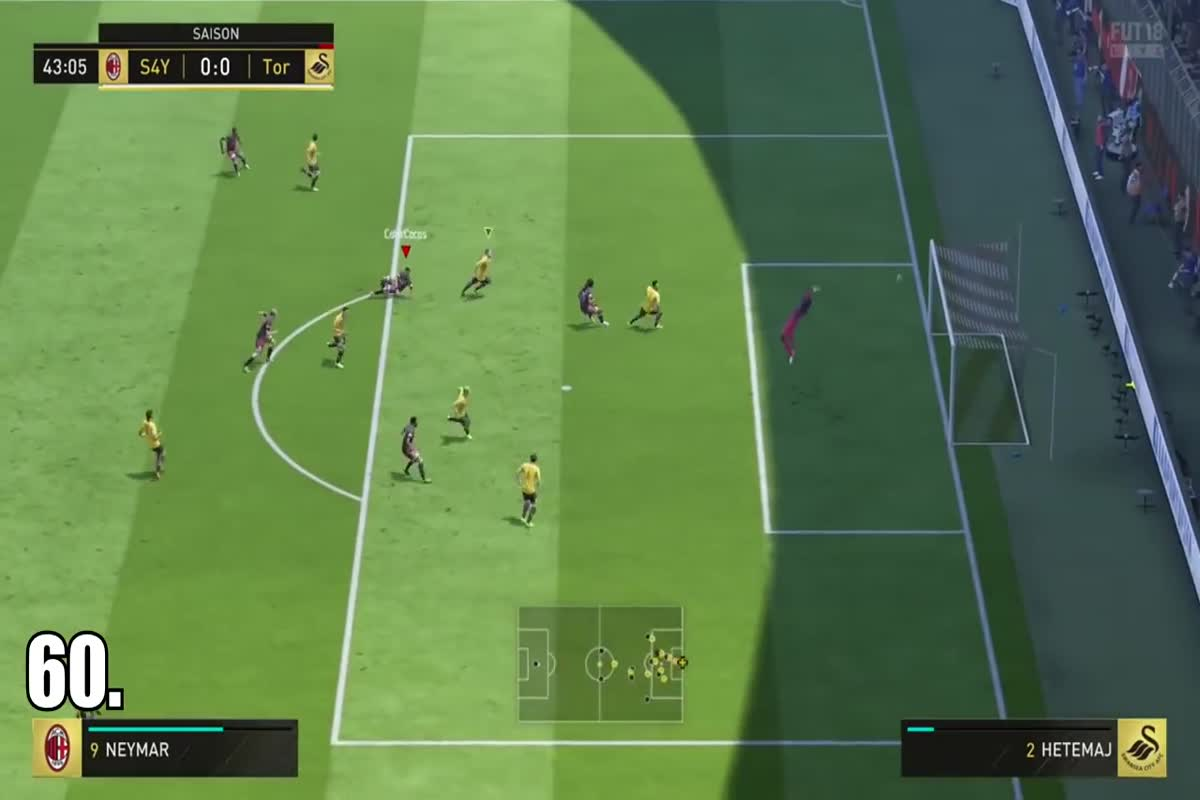ball: (887, 266, 910, 292)
